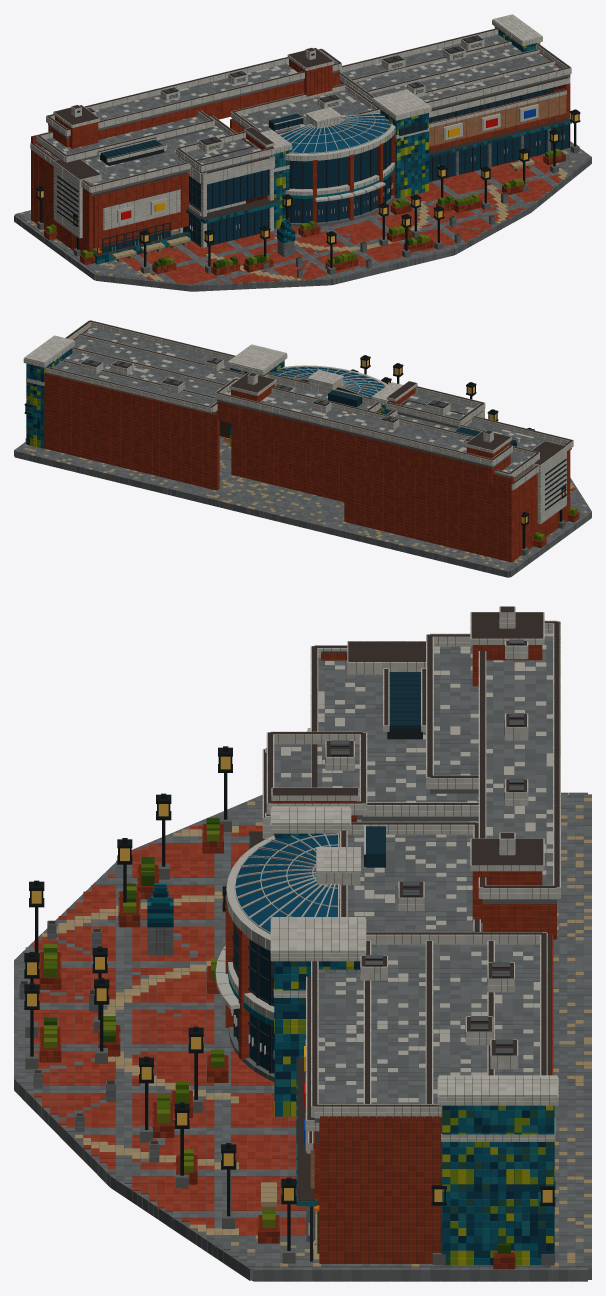
The model's file is SM_Mapa_067.fbx.
The picture shows the model from 3 angles, top to bottom: view 1: azimuth 30°, elevation 25°; view 2: azimuth 150°, elevation 25°; view 3: azimuth 270°, elevation 25°; orthographic projection. The views are drawn at different scales.
Visible parts, largest first — view 1: SM_Mapa_067; view 2: SM_Mapa_067; view 3: SM_Mapa_067.
Part boxes in pixels (bbox=[...]): SM_Mapa_067: bbox=[14, 14, 591, 291]; SM_Mapa_067: bbox=[14, 320, 591, 577]; SM_Mapa_067: bbox=[14, 606, 591, 1281].
Size of the model in its own units: 65 by 33.13 by 15.02.
